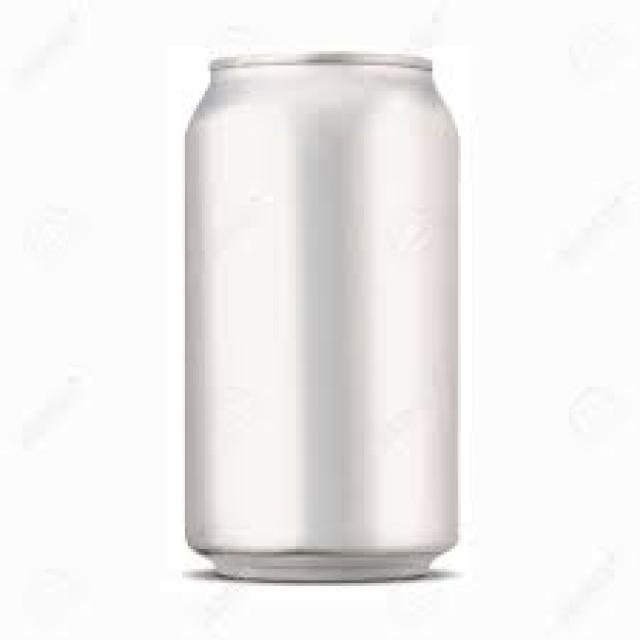metal: (182, 51, 461, 580)
